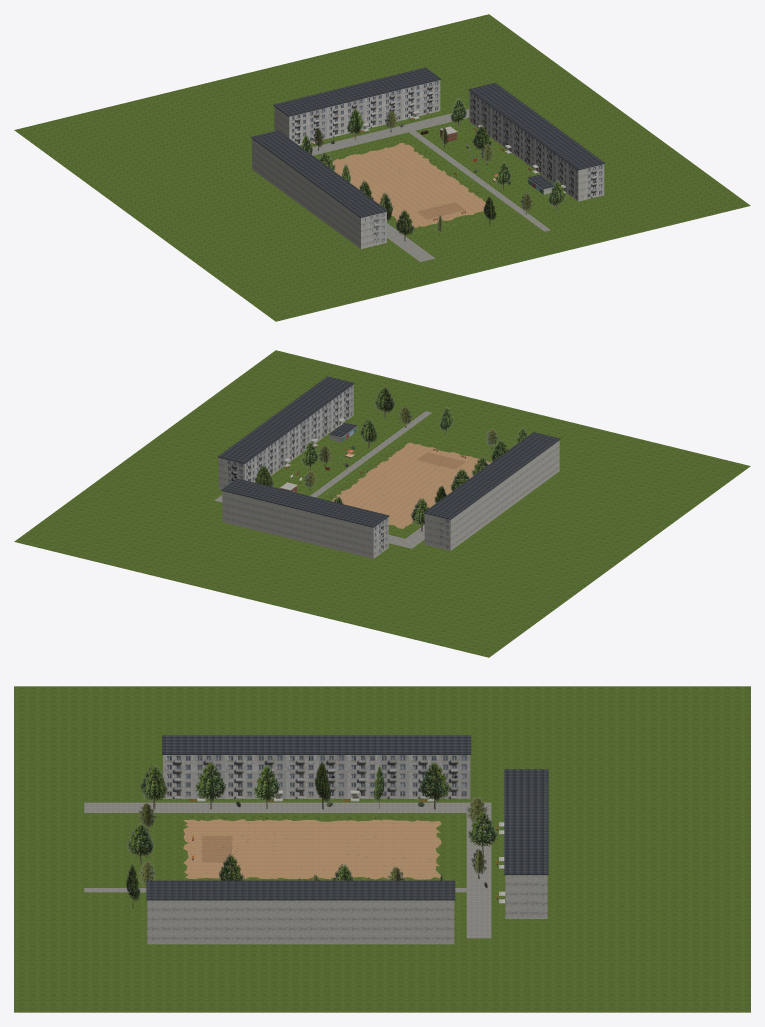
File: dvor.gltf
3 renders of one model, top to bottom at view 1: azimuth 30°, elevation 25°; view 2: azimuth 150°, elevation 25°; view 3: azimuth 270°, elevation 25°, orthographic. The views are drawn at different scales.
Visible parts, largest first — view 1: ground.001, court.001, houseF-front, houseL-body, houseR-front, houseR-roof, houseL-roof, houseF-roof, ground-asphalt2, ground-asphalt3, houseR-end0, ground-asphalt1 (+1 smaller); view 2: ground.001, court.001, houseF-body, houseL-body, houseR-front, houseL-roof, houseR-roof, houseF-roof, ground-asphalt3; view 3: ground.001, houseR-body, court.001, houseL-front, houseR-roof, houseL-roof, houseF-roof, ground-asphalt1, ground-asphalt2, houseF-body, clay-dom.001, tree1-1.001 (+3 smaller).
Boxes of the visible parts, x1,y1,x2,y2 form: ground.001: (14, 14, 750, 321); court.001: (332, 143, 485, 228); houseF-front: (289, 80, 440, 145); houseL-body: (252, 138, 386, 248); houseR-front: (469, 91, 578, 201); houseR-roof: (468, 82, 605, 170); houseL-roof: (251, 130, 387, 217); houseF-roof: (273, 67, 441, 116); ground-asphalt2: (310, 109, 469, 155); ground-asphalt3: (409, 131, 550, 231); houseR-end0: (581, 164, 604, 200); ground-asphalt1: (387, 223, 435, 261); ground.001: (14, 350, 750, 657); court.001: (331, 442, 491, 528); houseF-body: (222, 491, 388, 558); houseL-body: (424, 440, 559, 550); houseR-front: (244, 384, 353, 482); houseL-roof: (423, 432, 560, 519); houseR-roof: (218, 376, 354, 463); houseF-roof: (221, 478, 389, 527); ground-asphalt3: (310, 411, 431, 497); ground.001: (14, 686, 750, 1012); houseR-body: (147, 900, 454, 944); court.001: (183, 819, 441, 879); houseL-front: (163, 755, 470, 798); houseR-roof: (146, 880, 455, 900); houseL-roof: (162, 735, 471, 754); houseF-roof: (504, 769, 548, 874); ground-asphalt1: (84, 802, 466, 812); ground-asphalt2: (466, 802, 491, 938); houseF-body: (505, 875, 547, 918); clay-dom.001: (201, 835, 232, 862); tree1-1.001: (194, 762, 226, 809).
Bounding box in the file's own units: 220 × 15.04 × 210.
32 materials, 24 textured.
